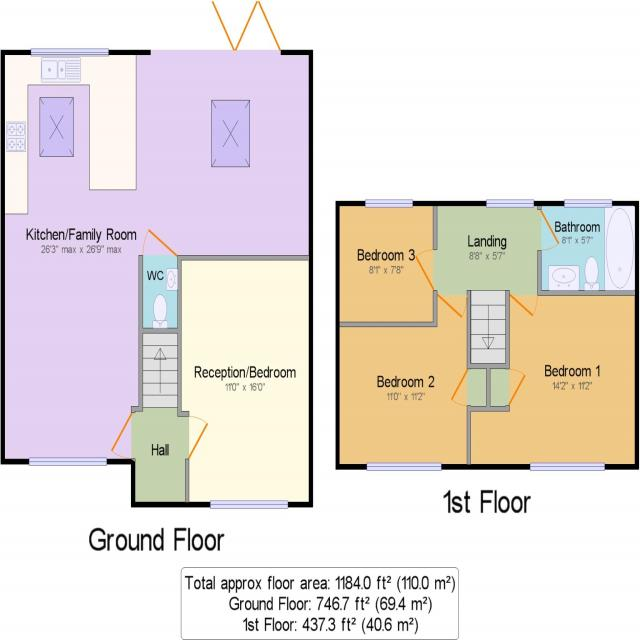DOOR: (142, 228, 178, 259), (537, 205, 560, 252), (414, 248, 438, 292), (185, 416, 209, 460), (436, 290, 468, 319), (508, 289, 539, 318)
FOLDING DOOR: (149, 0, 284, 55)
ROOM: (0, 0, 313, 465), (177, 255, 313, 509), (466, 290, 640, 470), (335, 290, 490, 471), (335, 199, 437, 327)
WINDOW: (209, 500, 289, 509), (28, 457, 107, 466), (30, 48, 109, 57), (366, 462, 442, 471), (530, 462, 605, 471), (564, 199, 613, 208), (486, 199, 534, 208), (365, 199, 413, 208)
